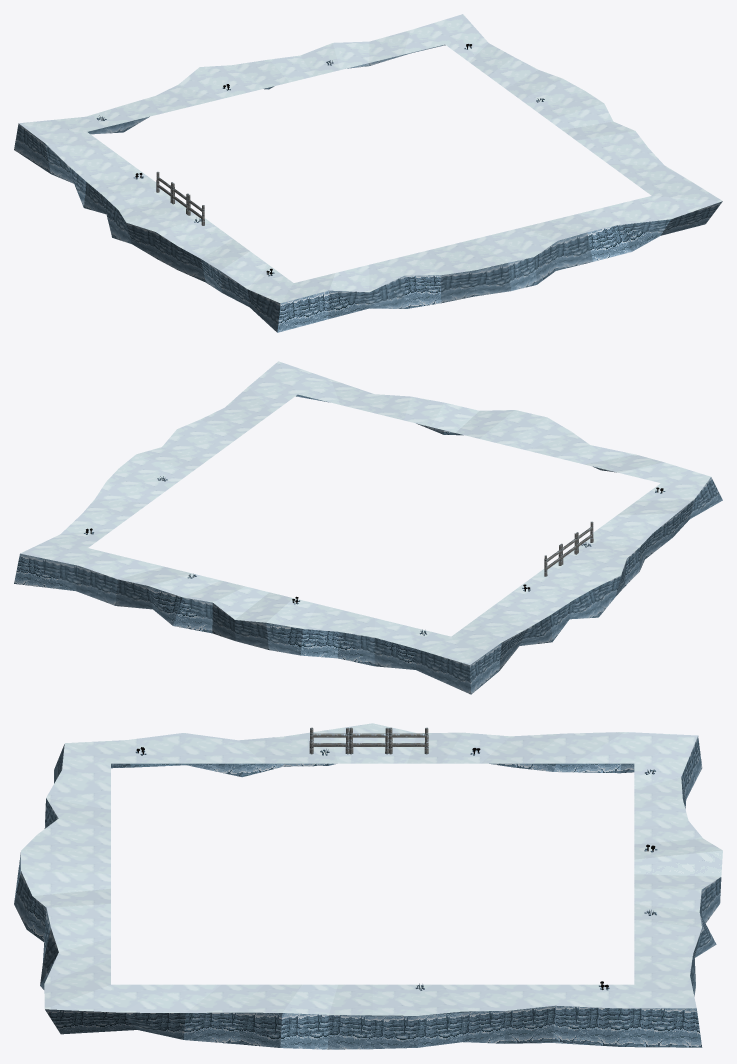
Rendered from entorno.fbx.
The picture shows the model from 3 angles, top to bottom: view 1: azimuth 30°, elevation 25°; view 2: azimuth 150°, elevation 25°; view 3: azimuth 270°, elevation 25°; orthographic projection. The views are drawn at different scales.
Visible parts, largest first — view 1: neve_entorno; view 2: neve_entorno; view 3: neve_entorno.
Part boxes in pixels (x1,y1,x2,y2): neve_entorno: [14, 14, 722, 332]; neve_entorno: [14, 361, 722, 694]; neve_entorno: [14, 723, 722, 1049].
Bounding box in the file's own units: 1631 × 169 × 1652.
Materials: 7 (5 with a texture image).
